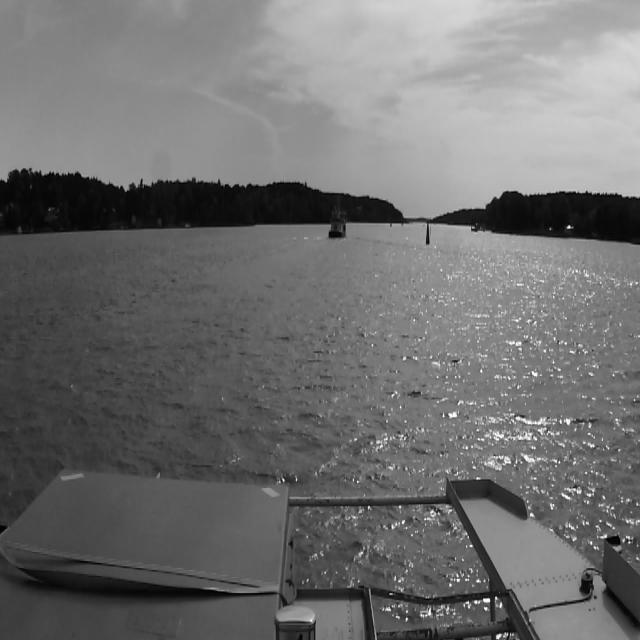buoy: (423, 219, 431, 247), (429, 225, 432, 235)
ship: (328, 196, 348, 241)
